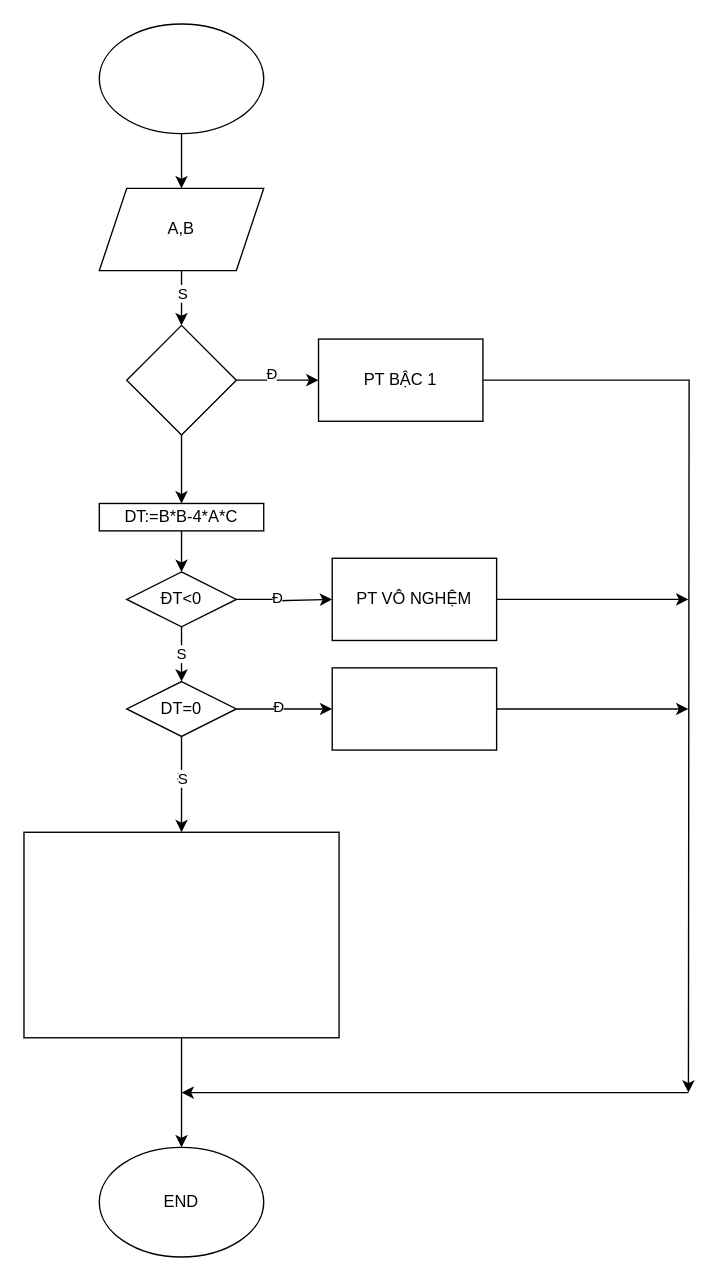
Some shapes in this 725 by 1281 pixel diagram are drawn without their labels. Each missing label, with the centre of its shape:
"A=0" belongs at pixel 180 379.
"PT BẬC HAI CÓ 2 No PHÂN BIỆT X1 =(-B+sqrt(DT))/(2*A) X2=(-B-sqrt(DT))/(2*A)" belongs at pixel 181 934.
"PT CÓ No KÉP X=-B/(2*A)" belongs at pixel 414 708.
"START" belongs at pixel 181 78.
